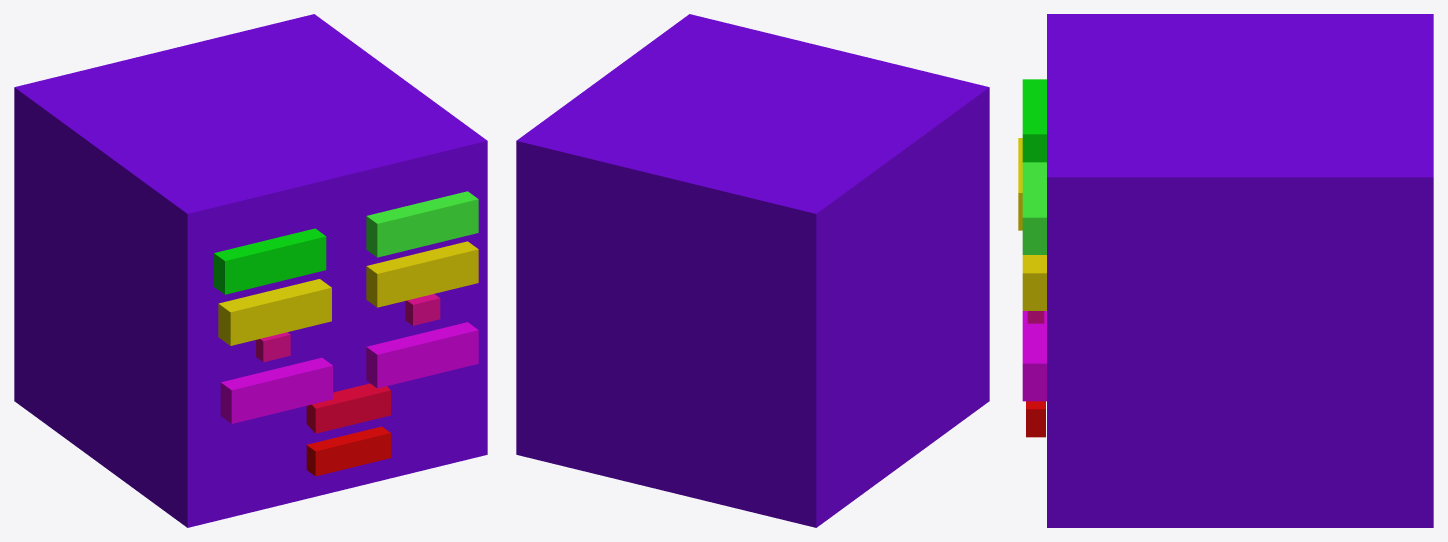
The model's file is hommna.glb.
The picture shows the model from 3 angles, left to right: view 1: azimuth 30°, elevation 25°; view 2: azimuth 150°, elevation 25°; view 3: azimuth 270°, elevation 25°; orthographic projection. The views are drawn at different scales.
Visible parts, largest first — view 1: Cube; view 2: Cube; view 3: Cube.
Boxes of the visible parts, box(x1,y1,x2,y2) form: Cube: box(14, 14, 487, 527); Cube: box(516, 14, 989, 527); Cube: box(1018, 14, 1433, 527).
Bounding box in the file's own units: 8.21 × 8.21 × 8.82.
